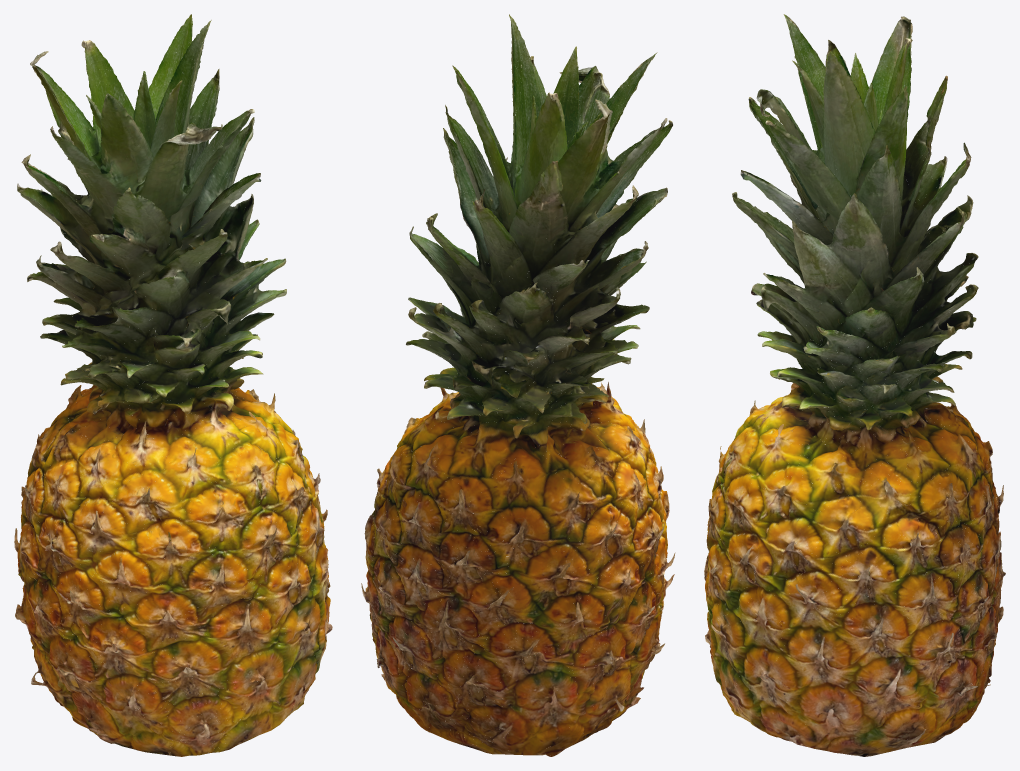
File: pineapple_compressed.glb
3 views of the same model, side by side, from view 1: azimuth 30°, elevation 25°; view 2: azimuth 150°, elevation 25°; view 3: azimuth 270°, elevation 25° (orthographic). The views are drawn at different scales.
Parts seen in each view (by area): view 1: group_0, group_0.001, group_0.002, group_0.003; view 2: group_0, group_0.002, group_0.001, group_0.003; view 3: group_0, group_0.002, group_0.001, group_0.003.
Part boxes in pixels (x1,y1,x2,y2): group_0: [16, 64, 328, 756]; group_0.001: [14, 20, 329, 756]; group_0.002: [15, 16, 332, 755]; group_0.003: [16, 14, 332, 753]; group_0: [364, 52, 672, 754]; group_0.002: [361, 14, 675, 756]; group_0.001: [365, 20, 675, 755]; group_0.003: [362, 22, 672, 738]; group_0: [706, 14, 1005, 749]; group_0.002: [705, 16, 1005, 756]; group_0.001: [707, 16, 1003, 721]; group_0.003: [704, 19, 999, 755].
Size of the model in its own units: 0.5285 by 1.3 by 0.5229.
1 material, 1 textured.
